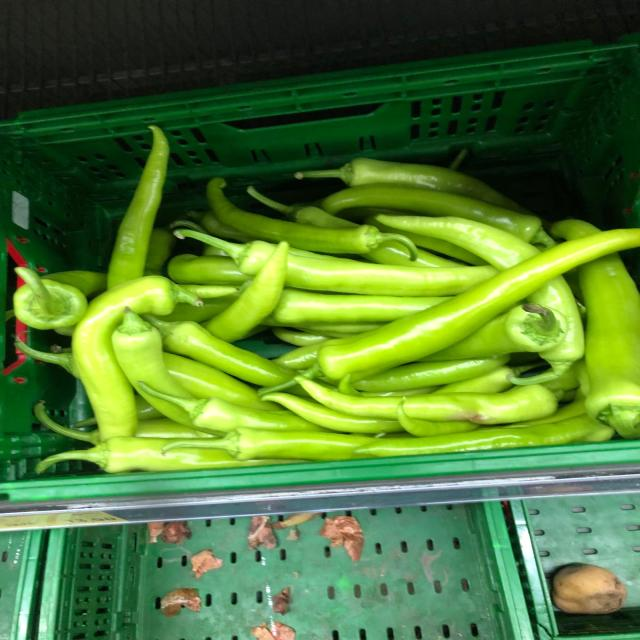green pepper: (261, 220, 640, 405), (67, 271, 205, 465), (201, 172, 428, 266), (292, 369, 585, 423)
